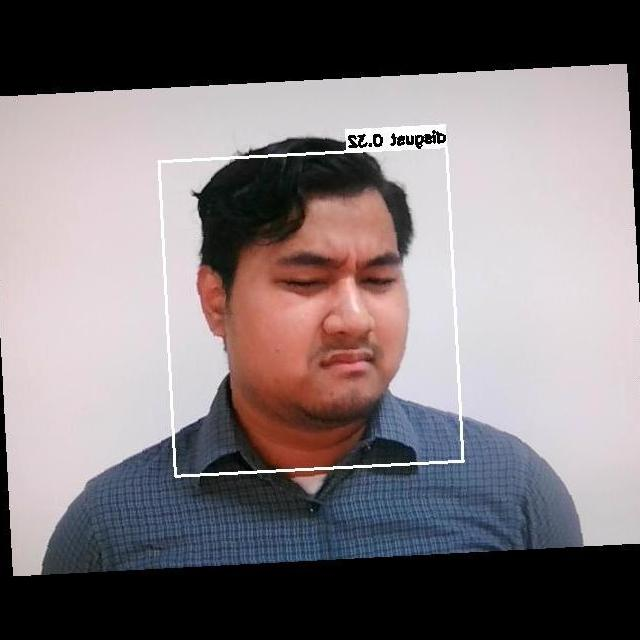Disgust: (229, 242, 428, 398)
